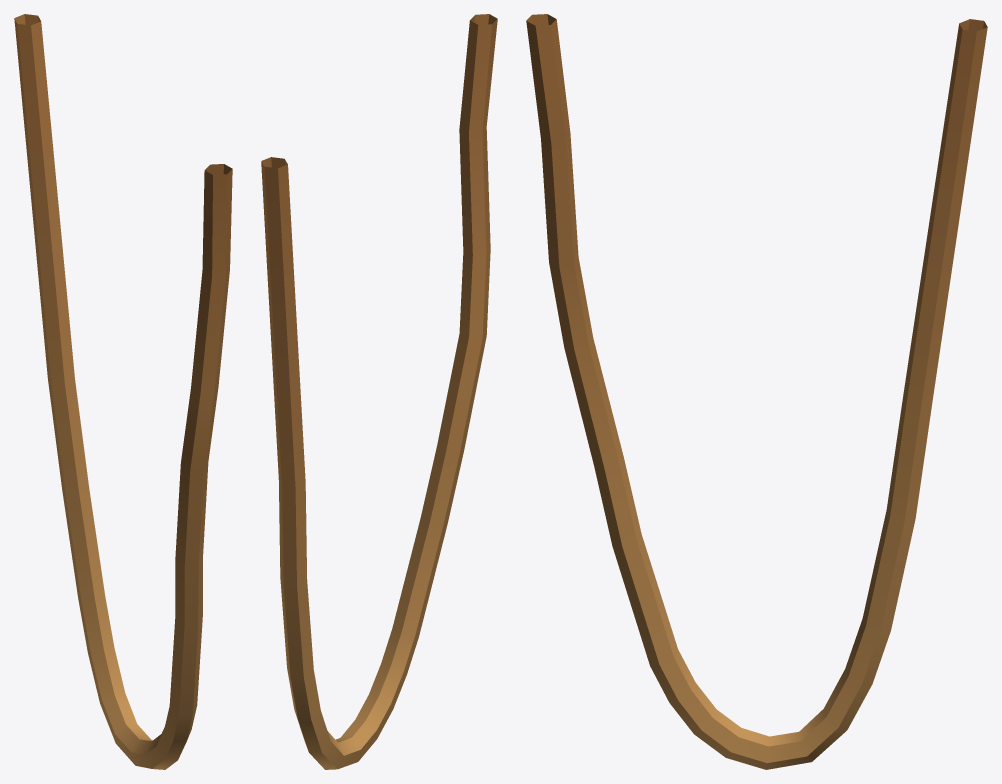
File: Rope_1_A.glb
3 views of the same model, side by side, from view 1: azimuth 30°, elevation 25°; view 2: azimuth 150°, elevation 25°; view 3: azimuth 270°, elevation 25° (orthographic). The views are drawn at different scales.
Visible parts, largest first — view 1: Rope_1_A; view 2: Rope_1_A; view 3: Rope_1_A.
Boxes of the visible parts, <box> form: Rope_1_A: <box>14,14,232,769</box>; Rope_1_A: <box>261,14,497,769</box>; Rope_1_A: <box>526,14,987,769</box>.
Bounding box in the file's own units: 0.1655 × 1.77 × 1.01.
Materials: 1 (1 with a texture image).
